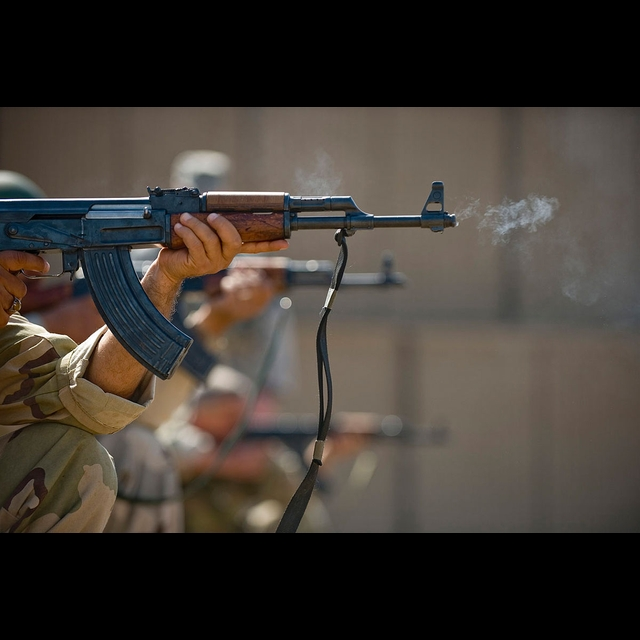AK47: (6, 165, 460, 378)
